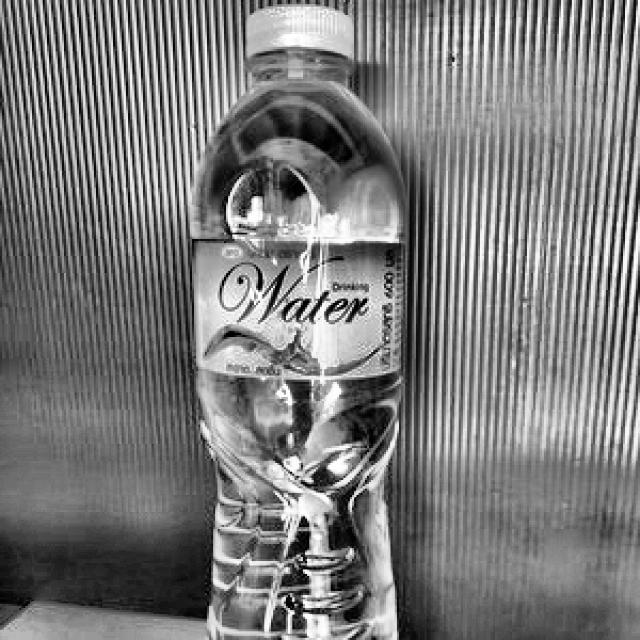waterbottle: (180, 0, 421, 640)
